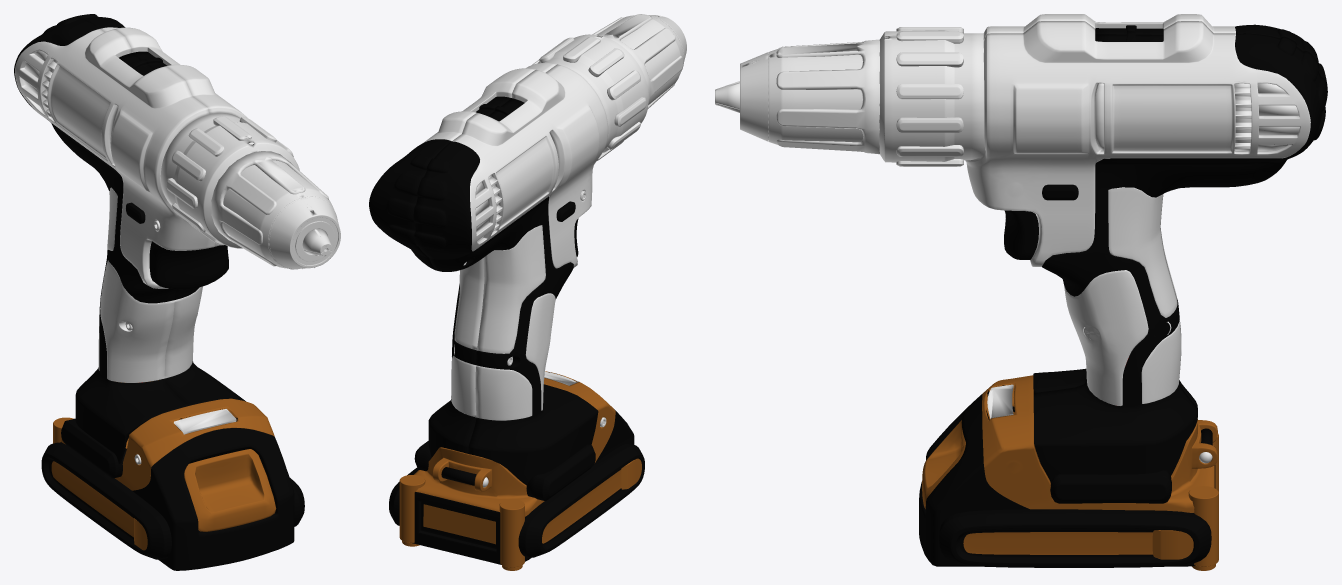
Rendered from Drill.fbx.
3 renders of one model, left to right at view 1: azimuth 30°, elevation 25°; view 2: azimuth 150°, elevation 25°; view 3: azimuth 270°, elevation 25°, orthographic. The views are drawn at different scales.
Visible parts, largest first — view 1: Body, Battery, Chuck, Body 2, Trigger, LED bar; view 2: Body, Battery, Body 2, Chuck; view 3: Body 2, Battery, Chuck, Body, Trigger, LED bar.
Boxes of the visible parts, x1,y1,x2,y2 form: Body: [14, 16, 214, 478]; Battery: [41, 380, 304, 570]; Chuck: [160, 113, 340, 269]; Body 2: [78, 14, 247, 405]; Trigger: [149, 241, 228, 289]; LED bar: [174, 408, 237, 434]; Body: [413, 64, 608, 500]; Battery: [389, 371, 644, 570]; Body 2: [369, 62, 556, 471]; Chuck: [532, 14, 686, 160]; Body 2: [965, 21, 1327, 503]; Battery: [919, 375, 1218, 570]; Chuck: [715, 27, 985, 166]; Body: [983, 14, 1327, 407]; Trigger: [1004, 210, 1038, 259]; LED bar: [986, 384, 1014, 419].
Bounding box in the file's own units: 6.12 × 16.83 × 18.18.
